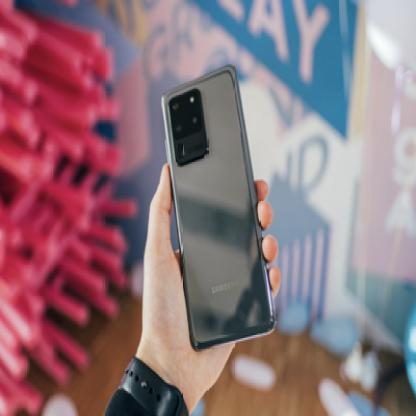cell-phone: (150, 61, 284, 352)
